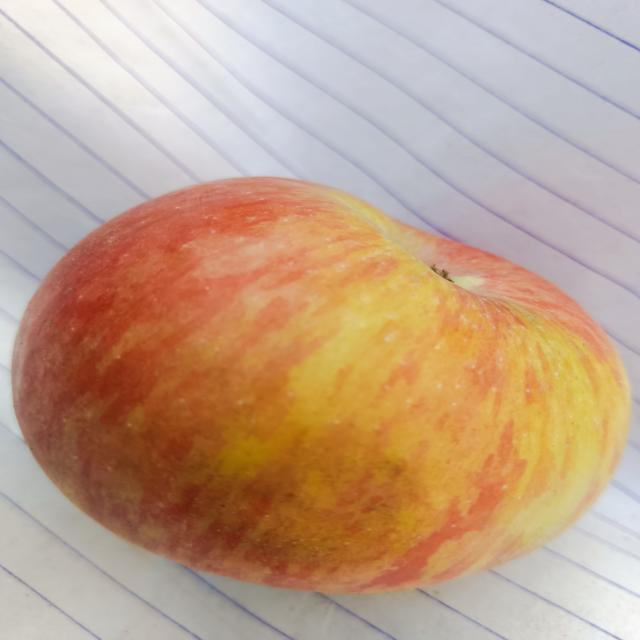Fresh Apple: (19, 171, 631, 591)
